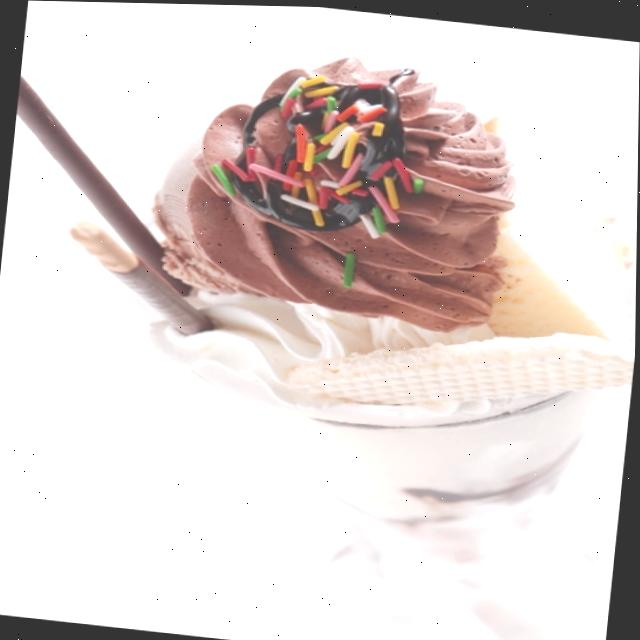蛋糕甜品: (5, 5, 640, 640)
